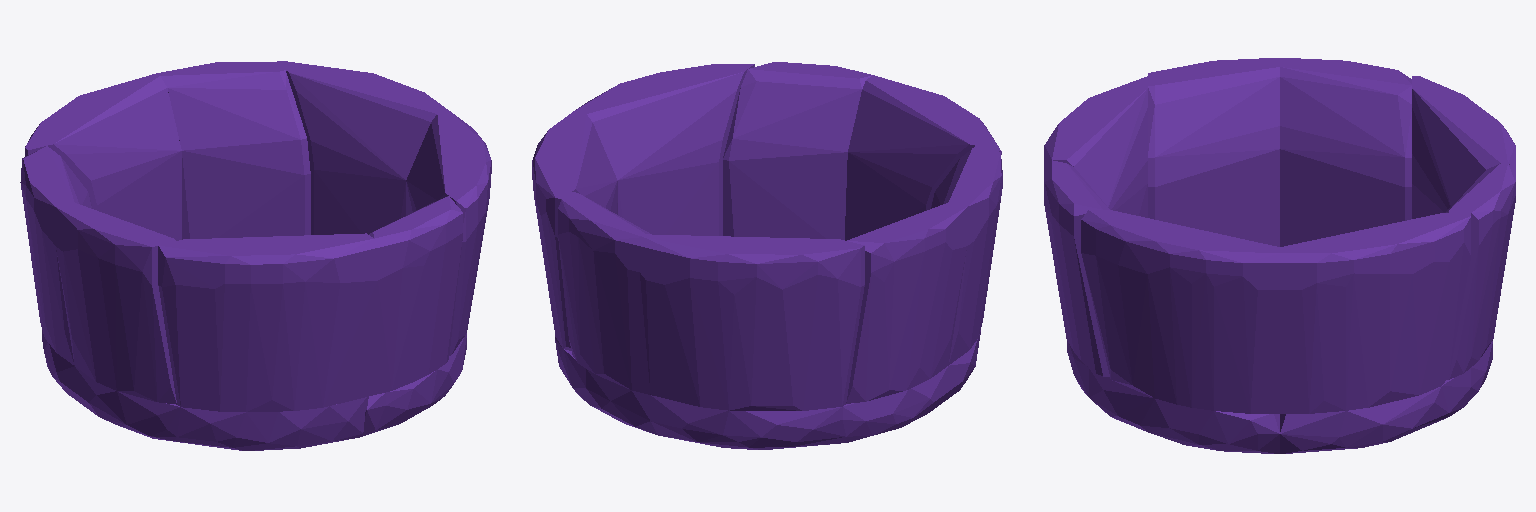
robot.urdf — model:
<?xml version="1.0" ?>

<robot name="model">

  <material name="color">
    <color rgba="0.46 0.28 0.68 1.00"/>
  </material>

  <link name="base_link">

    <contact>
      <lateral_friction value="1.0"/>
      <rolling_friction value="0.001"/>
      <spinning_friction value="0.001"/>
      <inertia_scaling value="1.0"/>
    </contact>

    <inertial>
      <origin rpy="0 0 0" xyz="1.90396e-05 4.80948e-05 0.0187212"/>
       <mass value="0.1"/>
       <inertia ixx="1" ixy="0" ixz="0" iyy="1" iyz="0" izz="1"/>
    </inertial>

    <visual>
      <origin rpy="0 0 0" xyz="0 0 0"/>
      <geometry>
        <mesh filename="model_vhacd_0_of_12.obj" scale="1 1 1"/>
      </geometry>
      <material name="color"/>
    </visual>
    <visual>
      <origin rpy="0 0 0" xyz="0 0 0"/>
      <geometry>
        <mesh filename="model_vhacd_1_of_12.obj" scale="1 1 1"/>
      </geometry>
      <material name="color"/>
    </visual>
    <visual>
      <origin rpy="0 0 0" xyz="0 0 0"/>
      <geometry>
        <mesh filename="model_vhacd_2_of_12.obj" scale="1 1 1"/>
      </geometry>
      <material name="color"/>
    </visual>
    <visual>
      <origin rpy="0 0 0" xyz="0 0 0"/>
      <geometry>
        <mesh filename="model_vhacd_3_of_12.obj" scale="1 1 1"/>
      </geometry>
      <material name="color"/>
    </visual>
    <visual>
      <origin rpy="0 0 0" xyz="0 0 0"/>
      <geometry>
        <mesh filename="model_vhacd_4_of_12.obj" scale="1 1 1"/>
      </geometry>
      <material name="color"/>
    </visual>
    <visual>
      <origin rpy="0 0 0" xyz="0 0 0"/>
      <geometry>
        <mesh filename="model_vhacd_5_of_12.obj" scale="1 1 1"/>
      </geometry>
      <material name="color"/>
    </visual>
    <visual>
      <origin rpy="0 0 0" xyz="0 0 0"/>
      <geometry>
        <mesh filename="model_vhacd_6_of_12.obj" scale="1 1 1"/>
      </geometry>
      <material name="color"/>
    </visual>
    <visual>
      <origin rpy="0 0 0" xyz="0 0 0"/>
      <geometry>
        <mesh filename="model_vhacd_7_of_12.obj" scale="1 1 1"/>
      </geometry>
      <material name="color"/>
    </visual>
    <visual>
      <origin rpy="0 0 0" xyz="0 0 0"/>
      <geometry>
        <mesh filename="model_vhacd_8_of_12.obj" scale="1 1 1"/>
      </geometry>
      <material name="color"/>
    </visual>
    <visual>
      <origin rpy="0 0 0" xyz="0 0 0"/>
      <geometry>
        <mesh filename="model_vhacd_9_of_12.obj" scale="1 1 1"/>
      </geometry>
      <material name="color"/>
    </visual>
    <visual>
      <origin rpy="0 0 0" xyz="0 0 0"/>
      <geometry>
        <mesh filename="model_vhacd_10_of_12.obj" scale="1 1 1"/>
      </geometry>
      <material name="color"/>
    </visual>
    <visual>
      <origin rpy="0 0 0" xyz="0 0 0"/>
      <geometry>
        <mesh filename="model_vhacd_11_of_12.obj" scale="1 1 1"/>
      </geometry>
      <material name="color"/>
    </visual>

    <collision>
      <origin rpy="0 0 0" xyz="0 0 0"/>
      <geometry>
        <mesh filename="model_vhacd_0_of_12.obj" scale="1 1 1"/>
      </geometry>
    </collision>
    <collision>
      <origin rpy="0 0 0" xyz="0 0 0"/>
      <geometry>
        <mesh filename="model_vhacd_1_of_12.obj" scale="1 1 1"/>
      </geometry>
    </collision>
    <collision>
      <origin rpy="0 0 0" xyz="0 0 0"/>
      <geometry>
        <mesh filename="model_vhacd_2_of_12.obj" scale="1 1 1"/>
      </geometry>
    </collision>
    <collision>
      <origin rpy="0 0 0" xyz="0 0 0"/>
      <geometry>
        <mesh filename="model_vhacd_3_of_12.obj" scale="1 1 1"/>
      </geometry>
    </collision>
    <collision>
      <origin rpy="0 0 0" xyz="0 0 0"/>
      <geometry>
        <mesh filename="model_vhacd_4_of_12.obj" scale="1 1 1"/>
      </geometry>
    </collision>
    <collision>
      <origin rpy="0 0 0" xyz="0 0 0"/>
      <geometry>
        <mesh filename="model_vhacd_5_of_12.obj" scale="1 1 1"/>
      </geometry>
    </collision>
    <collision>
      <origin rpy="0 0 0" xyz="0 0 0"/>
      <geometry>
        <mesh filename="model_vhacd_6_of_12.obj" scale="1 1 1"/>
      </geometry>
    </collision>
    <collision>
      <origin rpy="0 0 0" xyz="0 0 0"/>
      <geometry>
        <mesh filename="model_vhacd_7_of_12.obj" scale="1 1 1"/>
      </geometry>
    </collision>
    <collision>
      <origin rpy="0 0 0" xyz="0 0 0"/>
      <geometry>
        <mesh filename="model_vhacd_8_of_12.obj" scale="1 1 1"/>
      </geometry>
    </collision>
    <collision>
      <origin rpy="0 0 0" xyz="0 0 0"/>
      <geometry>
        <mesh filename="model_vhacd_9_of_12.obj" scale="1 1 1"/>
      </geometry>
    </collision>
    <collision>
      <origin rpy="0 0 0" xyz="0 0 0"/>
      <geometry>
        <mesh filename="model_vhacd_10_of_12.obj" scale="1 1 1"/>
      </geometry>
    </collision>
    <collision>
      <origin rpy="0 0 0" xyz="0 0 0"/>
      <geometry>
        <mesh filename="model_vhacd_11_of_12.obj" scale="1 1 1"/>
      </geometry>
    </collision>

  </link>

</robot>

--- Render facts (derived) ---
The picture shows the robot from 3 angles, left to right: view 1: azimuth 30°, elevation 25°; view 2: azimuth 150°, elevation 25°; view 3: azimuth 270°, elevation 25°; orthographic projection.
Robot: model — 1 links, 0 joints (none); root link base_link; default pose: every joint at zero.
Links seen in each view (by area): view 1: base_link; view 2: base_link; view 3: base_link.
Boxes of the visible links, box(x1,y1,x2,y2) form: base_link: box(20, 61, 491, 450); base_link: box(532, 62, 1002, 449); base_link: box(1044, 58, 1515, 453).
Bounding box of the posed robot: 0.0914 × 0.0914 × 0.0457 m (x, y, z).
Meshes: 12 distinct files referenced, 12 mesh visuals loaded (12 OBJ).